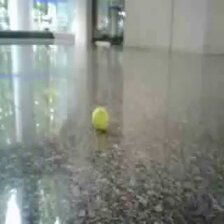tennis: (92, 108, 109, 127)
